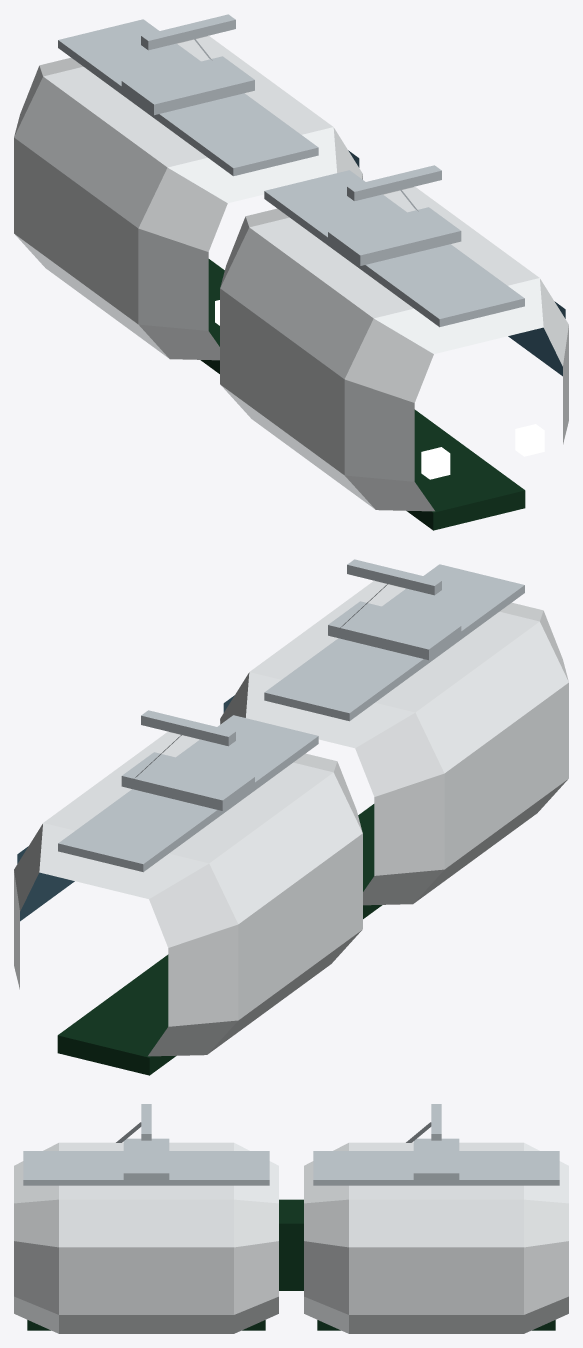
The model's file is mbta-train-green.glb.
3 renders of one model, top to bottom at view 1: azimuth 30°, elevation 25°; view 2: azimuth 150°, elevation 25°; view 3: azimuth 270°, elevation 25°, orthographic. The views are drawn at different scales.
Parts seen in each view (by area): view 1: Car body, Roof and underframe, Head lamps, Window band; view 2: Car body, Roof and underframe, Window band; view 3: Car body, Roof and underframe.
Boxes of the visible parts, box(x1,y1,x2,y2) form: Car body: box(14, 36, 568, 511); Roof and underframe: box(58, 14, 525, 530); Head lamps: box(215, 300, 544, 479); Window band: box(348, 150, 565, 376); Car body: box(14, 581, 568, 1056); Roof and underframe: box(57, 559, 524, 1075); Window band: box(17, 695, 234, 921); Car body: box(14, 1142, 568, 1333); Roof and underframe: box(23, 1104, 559, 1330).
Size of the model in its own units: 0.00891 by 0.0104 by 0.0268.
